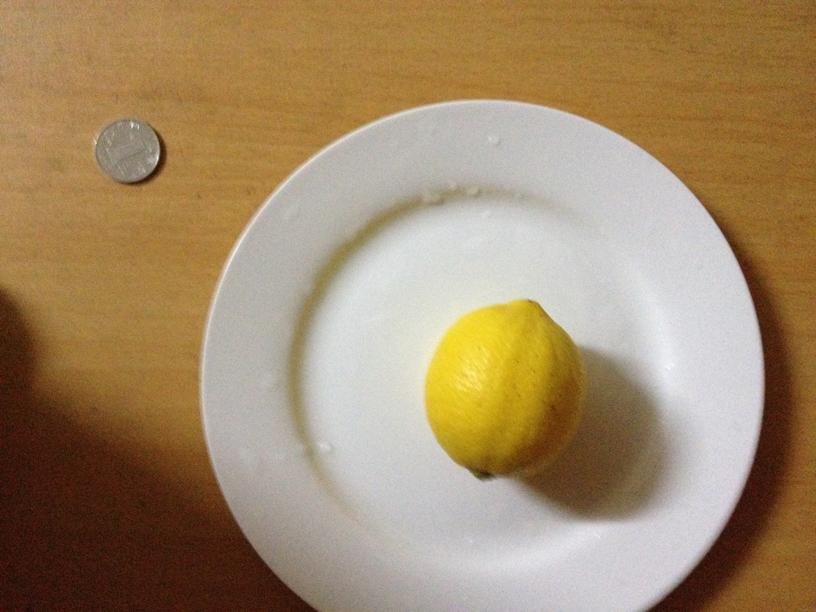coin: (92, 116, 161, 184)
lemon: (426, 294, 585, 480)
